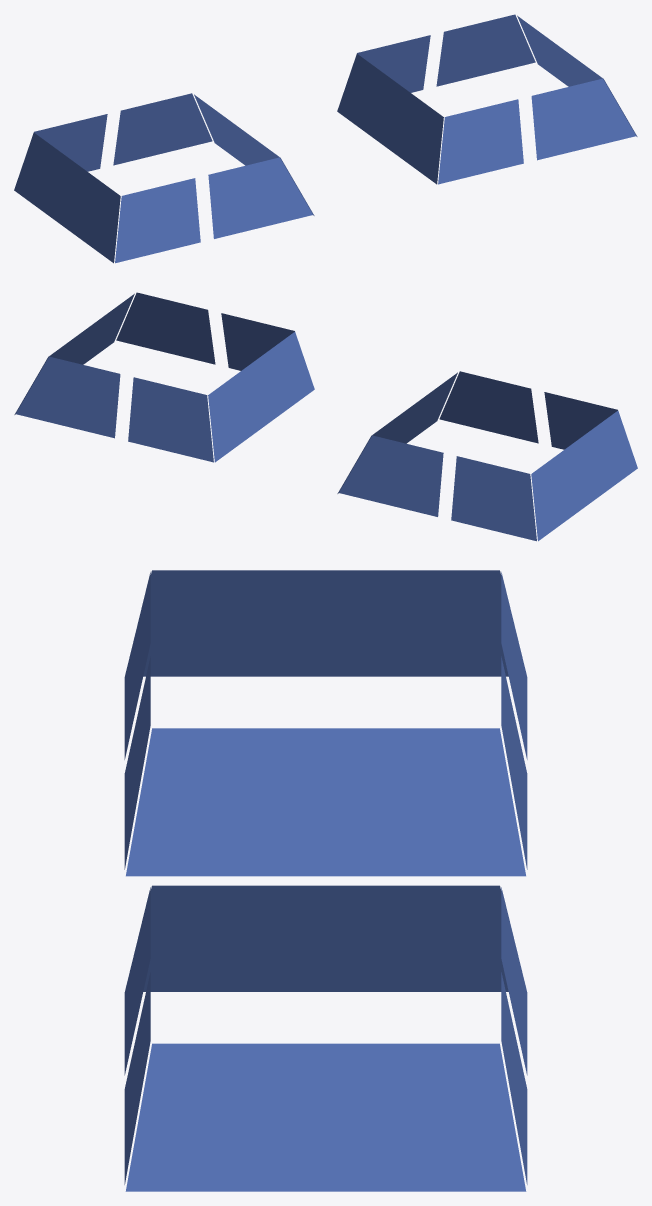
The model's file is wrecked_car_window.obj.
The picture shows the model from 3 angles, top to bottom: view 1: azimuth 30°, elevation 25°; view 2: azimuth 150°, elevation 25°; view 3: azimuth 270°, elevation 25°; orthographic projection. The views are drawn at different scales.
Parts seen in each view (by area): view 1: Cube.224_Cube.005, Cube.225_Cube.004; view 2: Cube.224_Cube.005, Cube.225_Cube.004; view 3: Cube.224_Cube.005, Cube.225_Cube.004.
Part boxes in pixels (x1=…): Cube.224_Cube.005: x1=14, y1=93, x2=314, y2=263; Cube.225_Cube.004: x1=337, y1=14, x2=637, y2=184; Cube.224_Cube.005: x1=337, y1=371, x2=637, y2=541; Cube.225_Cube.004: x1=14, y1=292, x2=314, y2=462; Cube.224_Cube.005: x1=124, y1=570, x2=527, y2=876; Cube.225_Cube.004: x1=124, y1=885, x2=527, y2=1191.
Bounding box in the file's own units: 6.89 × 0.7738 × 2.29.
